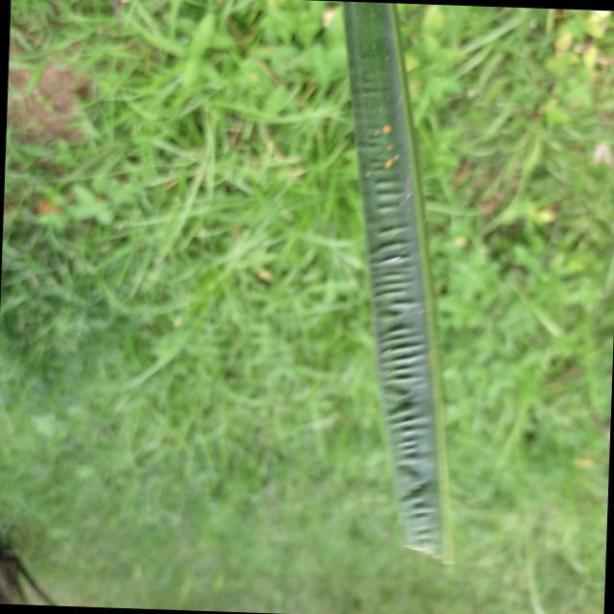Boron: (344, 0, 462, 569)
